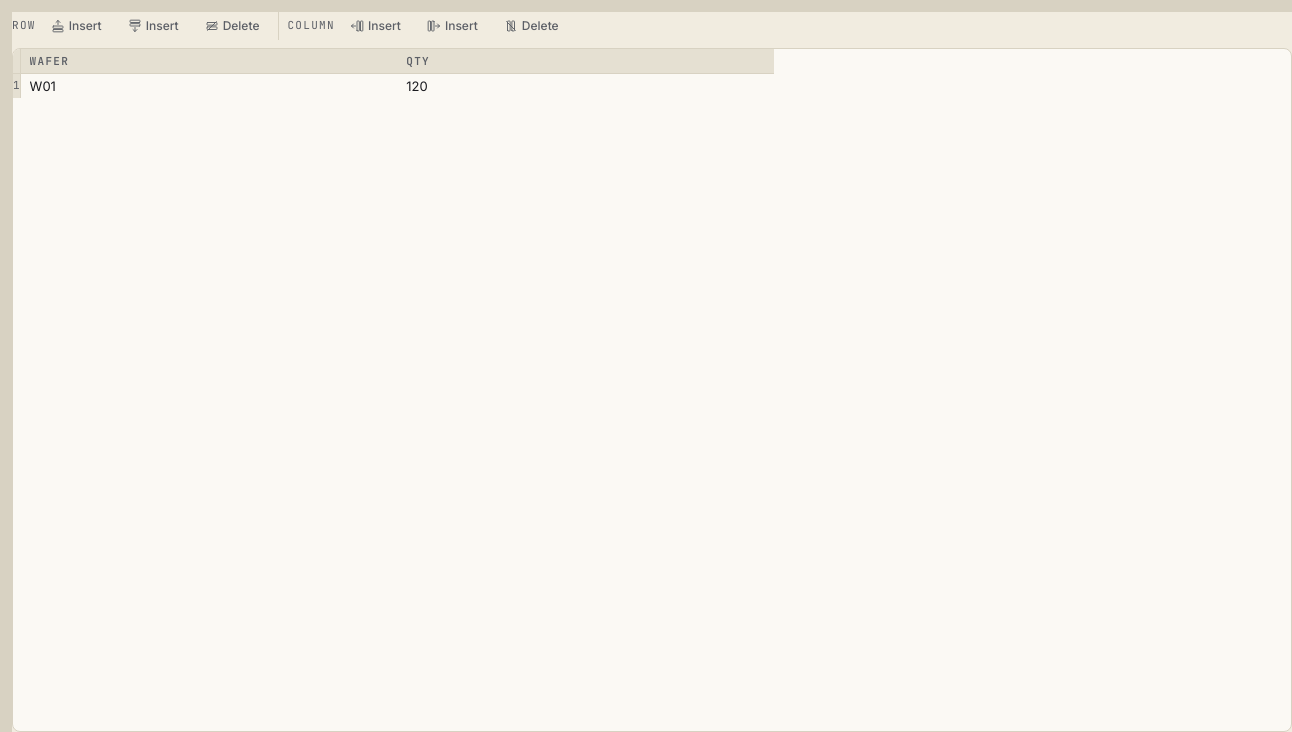
Scenario: SheetRenderer › discards an edit on Esc, leaving the file clean
Double-click the field named "R1C2": (586, 86) [397,74,774,98]
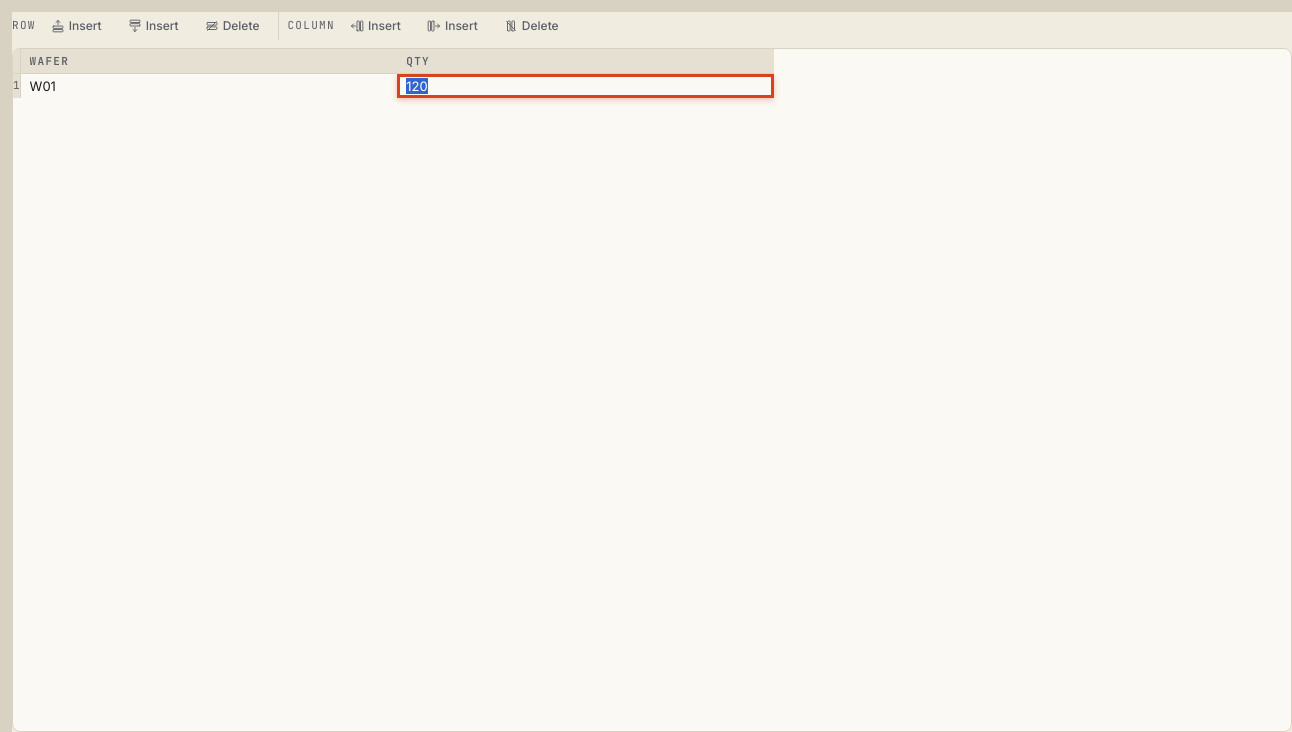
Replace the text in the field named "R1C2" with "999": (586, 86) [397,74,774,98]
Then press Escape
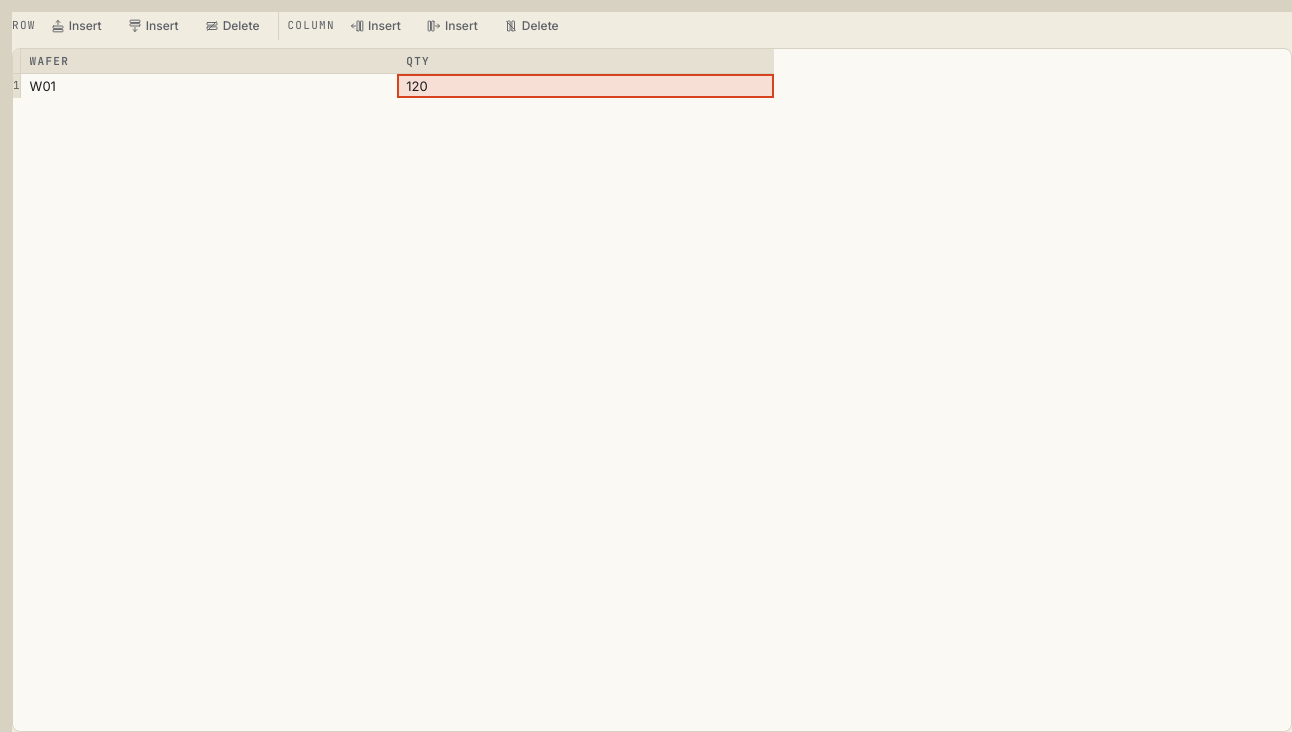
Now the field named "R1C2" holds "120", box [397,74,774,98]
